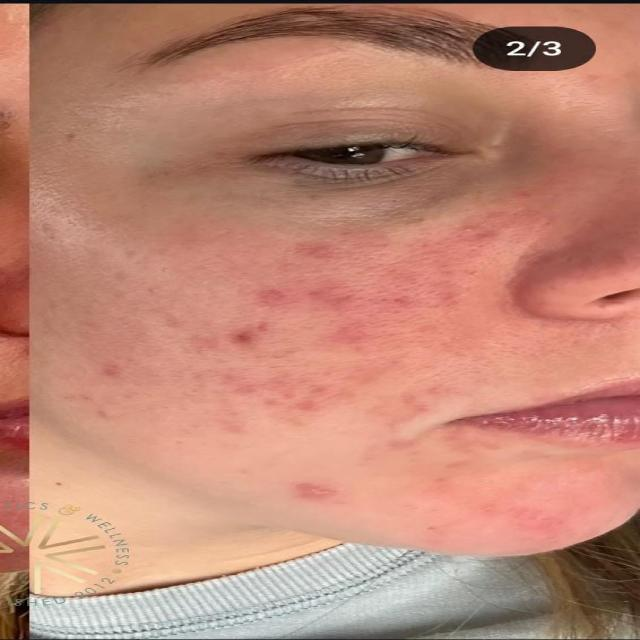Rosacea: (199, 230, 460, 409)
